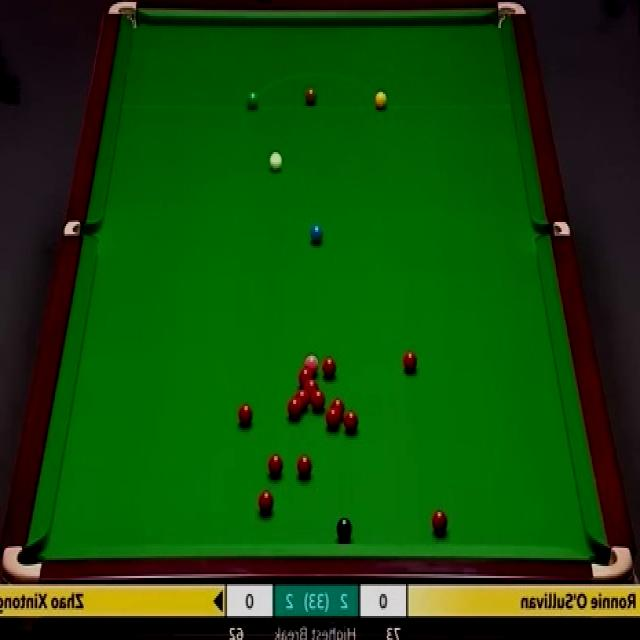black-ball: (336, 514, 354, 538)
blue-ball: (310, 225, 324, 242)
brown-ball: (305, 88, 316, 106)
green-ball: (245, 88, 260, 110)
pink-ball: (306, 356, 322, 370)
red-ball: (432, 510, 448, 538), (238, 399, 254, 426), (403, 349, 419, 374), (310, 389, 326, 412), (324, 405, 340, 428), (261, 489, 275, 514), (287, 397, 303, 418), (296, 457, 310, 481), (270, 453, 284, 474), (343, 413, 358, 432), (296, 386, 310, 406), (306, 378, 320, 396), (323, 356, 335, 377), (299, 368, 313, 385)
white-ball: (269, 150, 282, 172)
yellow-ball: (375, 90, 387, 110)
